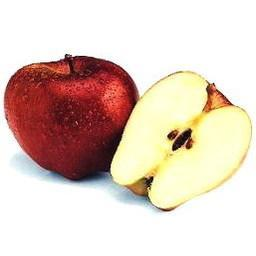apple: (2, 55, 138, 181)
